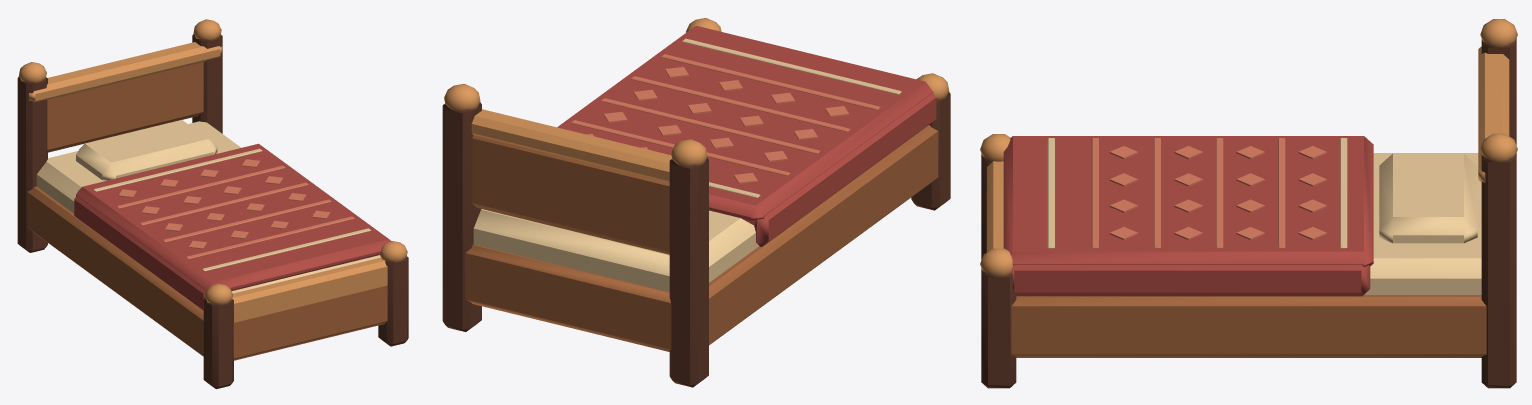
The model's file is bed.glb.
3 views of the same model, side by side, from view 1: azimuth 30°, elevation 25°; view 2: azimuth 150°, elevation 25°; view 3: azimuth 270°, elevation 25° (orthographic). The views are drawn at different scales.
Parts seen in each view (by area): view 1: Bed, Quilt; view 2: Bed, Quilt; view 3: Bed, Quilt.
Part boxes in pixels (left/top/right/bottom): Bed: left=17, top=19, right=408, bottom=389; Quilt: left=74, top=143, right=391, bottom=310; Bed: left=442, top=18, right=950, bottom=387; Quilt: left=557, top=25, right=936, bottom=246; Bed: left=980, top=19, right=1517, bottom=388; Quilt: left=1003, top=136, right=1373, bottom=296.
Bounding box in the file's own units: 1.19 × 1.06 × 2.08.
